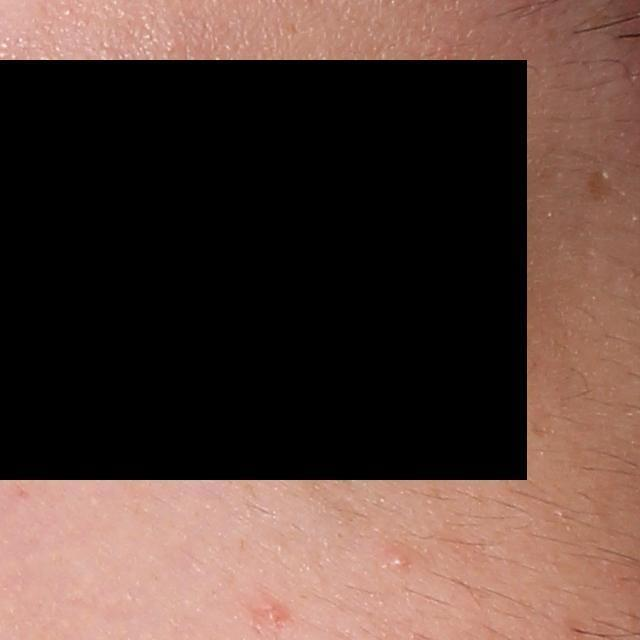comedo: (391, 552, 408, 569)
